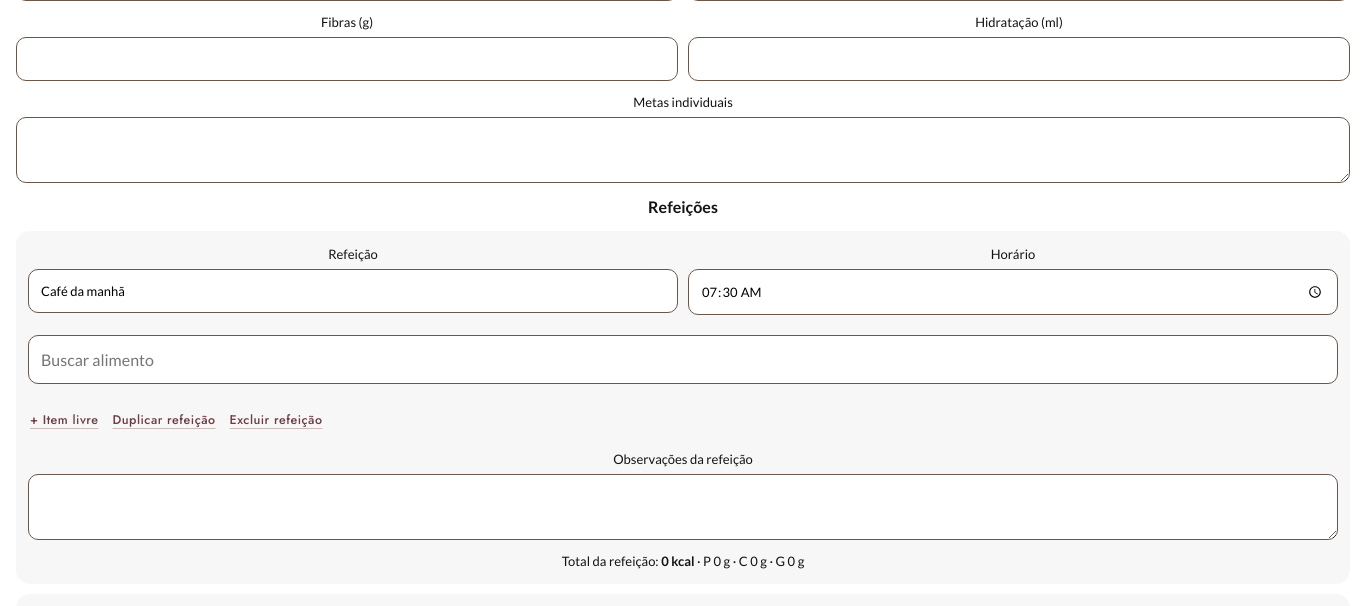
Test case: PlanEditor — fluxo da nutricionista › adiciona alimento do banco, recalcula pela quantidade e mostra o total do dia
(page scrolled)
# busca no 1º campo de busca (café da manhã) e escolhe o alimento
Type "arroz" into the 1st search field labelled "Buscar alimento" at (683, 359), box [28, 335, 1338, 384]
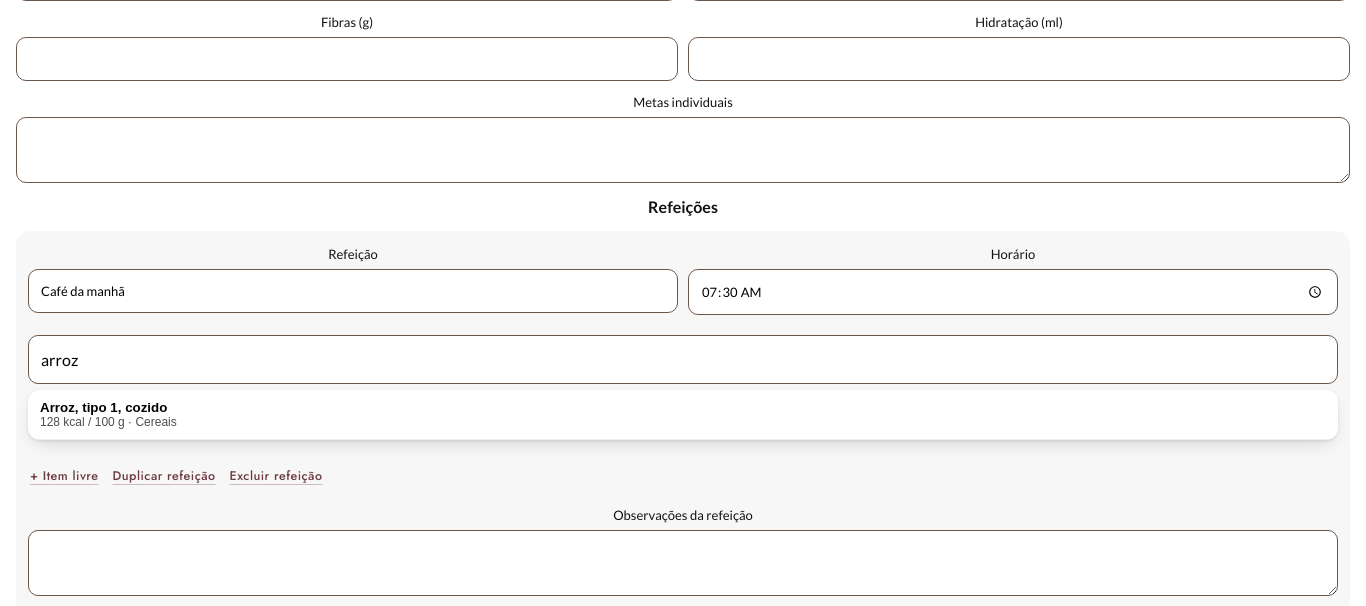
Click the button "Arroz, tipo 1, cozido 128 kcal / 100 g · Cereais" at (104, 408), box [28, 390, 1338, 440]
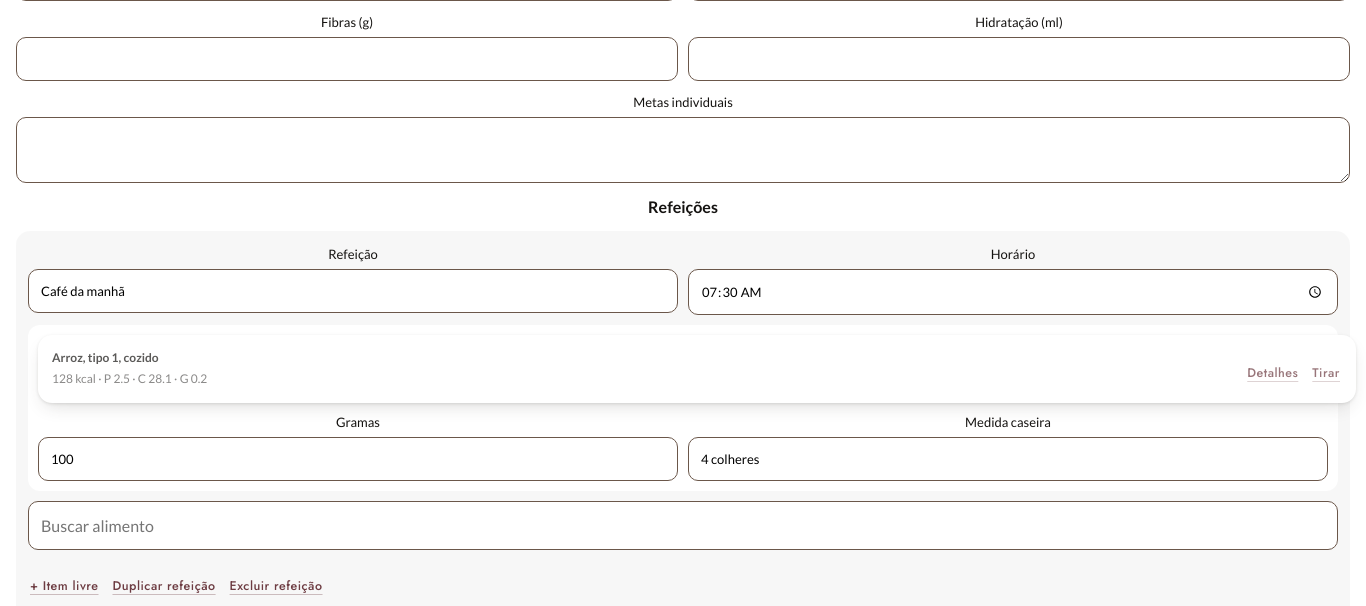
Expected: the text "128 kcal · P 2.5 · C 28.1 · G 0.2" is shown, [52, 369, 207, 389]
Replace the text in the field labelled "Gramas" with "200" at (358, 459), box [38, 437, 678, 481]
(page scrolled)
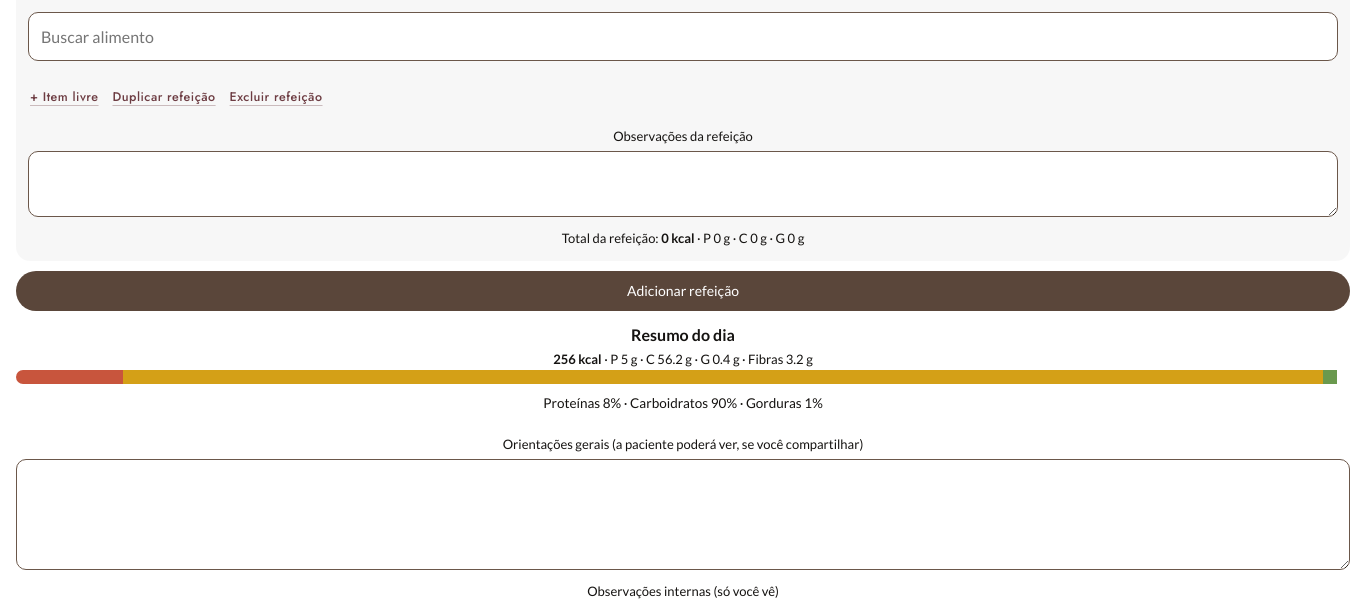
Expected: the text "256 kcal" is shown, [553, 351, 602, 367]
